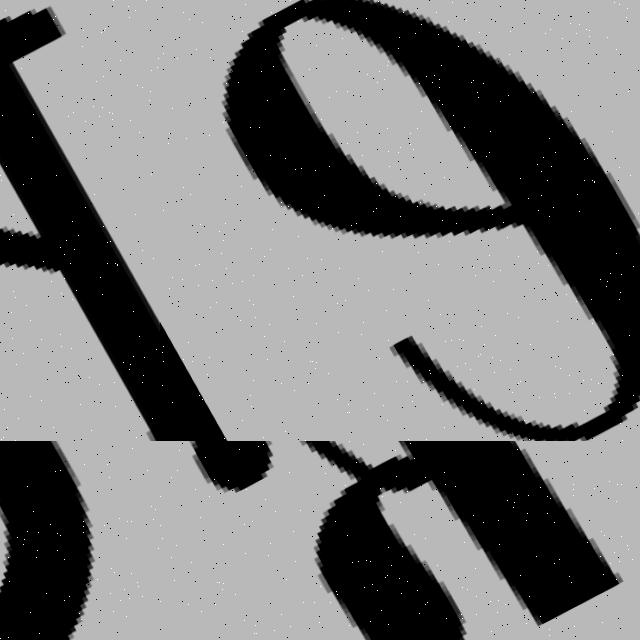D: (0, 441, 160, 640)
E: (219, 0, 640, 441)
H: (0, 9, 160, 441)
K: (160, 441, 631, 640)
